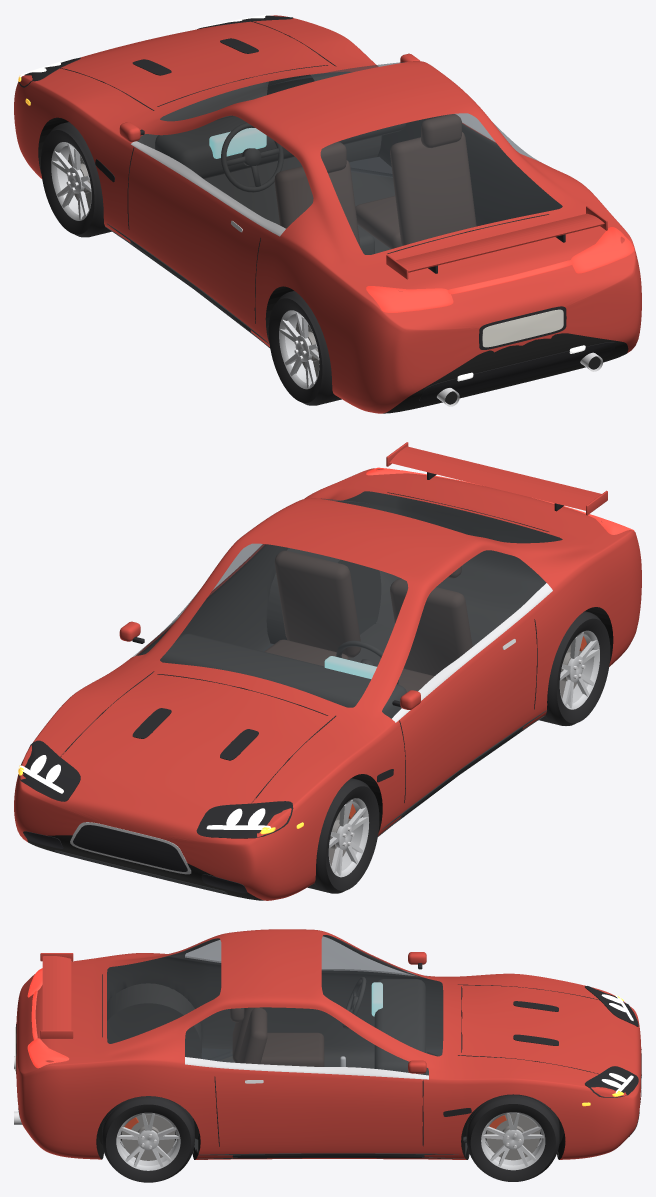
The model's file is SolanoCoupe.glb.
3 views of the same model, one above another, from view 1: azimuth 30°, elevation 25°; view 2: azimuth 150°, elevation 25°; view 3: azimuth 270°, elevation 25° (orthographic). The views are drawn at different scales.
Visible parts, largest first — view 1: SolanoCoupe_Body, SolanoCoupe_Glass, SolanoCoupe_Interior, SolanoCoupe_Wheel_FL, SolanoCoupe_Wheel_RL, SolanoCoupe_Lights_Tail, SolanoCoupe_Steering; view 2: SolanoCoupe_Body, SolanoCoupe_Glass, SolanoCoupe_Interior, SolanoCoupe_Wheel_FL, SolanoCoupe_Wheel_RL, SolanoCoupe_Lights_Head, SolanoCoupe_Lights_Tail; view 3: SolanoCoupe_Body, SolanoCoupe_Glass, SolanoCoupe_Interior, SolanoCoupe_Wheel_FR, SolanoCoupe_Wheel_RR, SolanoCoupe_Lights_Tail, SolanoCoupe_Lights_Head, SolanoCoupe_Steering.
Part boxes in pixels (bbox=[...]): SolanoCoupe_Body: bbox=[14, 15, 641, 413]; SolanoCoupe_Glass: bbox=[137, 62, 562, 254]; SolanoCoupe_Interior: bbox=[137, 72, 562, 254]; SolanoCoupe_Wheel_FL: bbox=[41, 122, 111, 237]; SolanoCoupe_Wheel_RL: bbox=[268, 291, 341, 405]; SolanoCoupe_Lights_Tail: bbox=[366, 227, 634, 312]; SolanoCoupe_Steering: bbox=[221, 122, 283, 192]; SolanoCoupe_Body: bbox=[14, 442, 641, 900]; SolanoCoupe_Glass: bbox=[136, 491, 562, 718]; SolanoCoupe_Interior: bbox=[138, 491, 562, 718]; SolanoCoupe_Wheel_FL: bbox=[307, 778, 379, 893]; SolanoCoupe_Wheel_RL: bbox=[539, 611, 610, 725]; SolanoCoupe_Lights_Head: bbox=[19, 755, 270, 829]; SolanoCoupe_Lights_Tail: bbox=[366, 467, 634, 534]; SolanoCoupe_Body: bbox=[14, 929, 641, 1159]; SolanoCoupe_Glass: bbox=[107, 935, 442, 1075]; SolanoCoupe_Interior: bbox=[107, 935, 558, 1156]; SolanoCoupe_Wheel_FR: bbox=[466, 1094, 559, 1181]; SolanoCoupe_Wheel_RR: bbox=[102, 1096, 194, 1182]; SolanoCoupe_Lights_Tail: bbox=[27, 968, 69, 1068]; SolanoCoupe_Lights_Head: bbox=[601, 994, 633, 1093]; SolanoCoupe_Steering: bbox=[342, 977, 366, 1029].
Bounding box in the file's own units: 1.88 × 1.31 × 4.39.
